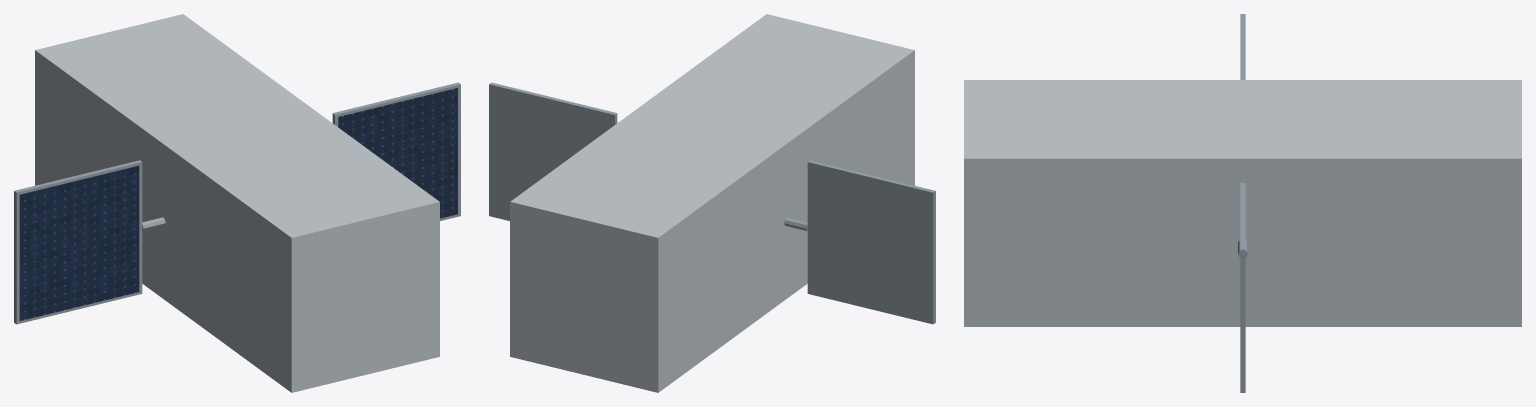
Rendered from ref-xpnav-41841.glb.
The picture shows the model from 3 angles, left to right: view 1: azimuth 30°, elevation 25°; view 2: azimuth 150°, elevation 25°; view 3: azimuth 270°, elevation 25°; orthographic projection. The views are drawn at different scales.
Parts seen in each view (by area): view 1: Spacecraft body, Photovoltaic laminates (×2), Array frame (×2); view 2: Spacecraft body, Array frame (×2); view 3: Spacecraft body, Array frame.
Part boxes in pixels (<box>): Spacecraft body: <box>35,14,439,392</box>; Photovoltaic laminates (×2): <box>19,88,457,320</box>; Array frame (×2): <box>14,82,460,324</box>; Spacecraft body: <box>510,14,914,392</box>; Array frame (×2): <box>489,82,935,324</box>; Spacecraft body: <box>964,80,1521,326</box>; Array frame: <box>1240,183,1245,392</box>.
Size of the model in its own units: 1.5 by 0.5 by 1.5.
3 materials, 1 textured.
